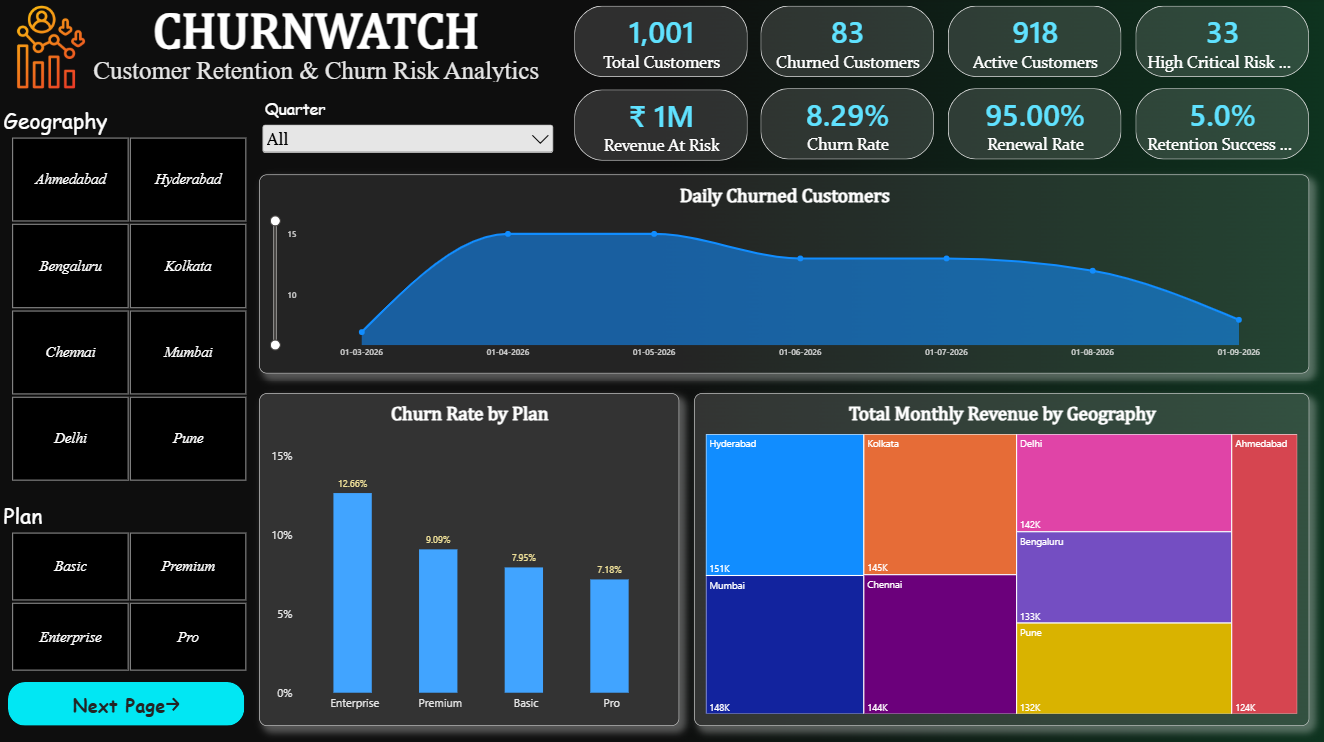

What the dashboard file says about the page in this screenshot:
{"tool":"powerbi","page":{"name":"Churn Rate","canvas":[1920,1080],"ordinal":0},"visuals":[{"type":"shape","title":"CHURNWATCH","box":[0,10.9,921.1,112.2],"z":0},{"type":"image","box":[14.5,10.9,124.9,123.1],"z":1000},{"type":"treemap","fields":{"Group":["Subscription_Data.Geography"],"Values":["Sum(Subscription_Data.Monthly_Revenue_INR)"]},"box":[1008,573.7,890.4,481.4],"z":2000},{"type":"clusteredColumnChart","fields":{"Category":["Subscription_Data.Plan"],"Y":["Subscription_Data.Churn Rate"]},"box":[378.2,573.7,608,481.4],"z":3000},{"type":"lineChart","title":"Daily Churned Customers","fields":{"Category":["Subscription_Data.Churn_Month"],"Y":["Subscription_Data.Daily Churned Customers"]},"box":[378.2,257,1520.1,287.7],"z":4000},{"type":"slicer","fields":{"Values":["Subscription_Data.Geography"]},"box":[0,157.4,378.2,544.7],"z":5000},{"type":"slicer","fields":{"Values":["Subscription_Data.Plan"]},"box":[0,729.3,378.2,247.9],"z":6000},{"type":"cardVisual","fields":{"Data":["Subscription_Data.Total Customers Display"]},"box":[834.3,12.7,251.5,103.2],"z":7000},{"type":"cardVisual","fields":{"Data":["Subscription_Data.Churned Customers"]},"box":[1103.9,12.7,251.5,103.2],"z":8000},{"type":"cardVisual","fields":{"Data":["Subscription_Data.Active Customers"]},"box":[1375.3,12.7,251.5,103.2],"z":9000},{"type":"cardVisual","fields":{"Data":["Intervention_Data.High Critical Risk Customers"]},"box":[1646.8,12.7,251.5,103.2],"z":10000},{"type":"cardVisual","fields":{"Data":["Intervention_Data.Revenue At Risk"]},"box":[834.3,133.9,251.5,103.2],"z":11000},{"type":"cardVisual","fields":{"Data":["Subscription_Data.Churn Rate"]},"box":[1103.8,132.7,251.5,103.2],"z":12000},{"type":"cardVisual","fields":{"Data":["Subscription_Data.Renewal Rate"]},"box":[1375.2,132.7,251.5,103.2],"z":13000},{"type":"cardVisual","fields":{"Data":["Intervention_Data.Retention Success Rate"]},"box":[1646.7,132.7,251.5,103.2],"z":14000},{"type":"actionButton","box":[14.5,991.7,342,63.3],"z":16000},{"type":"slicer","fields":{"Values":["Subscription_Data.Churn_Month.Variation.Date Hierarchy.Quarter"]},"box":[378.2,146.6,430.7,90.5],"z":16001}]}

Visuals, with their boxes in screenshot pixels (x1, y1, x2, y2), scaled from the page's 1920x1080 canvas onto the 1324x742 screenshot:
"CHURNWATCH" shape: pyautogui.locateOnScreen(0, 7, 635, 85)
image: pyautogui.locateOnScreen(10, 7, 96, 92)
treemap - Subscription_Data.Geography x Sum(Subscription_Data.Monthly_Revenue_INR): pyautogui.locateOnScreen(695, 394, 1309, 725)
clusteredColumnChart - Subscription_Data.Plan x Subscription_Data.Churn Rate: pyautogui.locateOnScreen(261, 394, 680, 725)
"Daily Churned Customers" lineChart: pyautogui.locateOnScreen(261, 177, 1309, 374)
slicer - Subscription_Data.Geography: pyautogui.locateOnScreen(0, 108, 261, 482)
slicer - Subscription_Data.Plan: pyautogui.locateOnScreen(0, 501, 261, 671)
cardVisual - Subscription_Data.Total Customers Display: pyautogui.locateOnScreen(575, 9, 749, 80)
cardVisual - Subscription_Data.Churned Customers: pyautogui.locateOnScreen(761, 9, 935, 80)
cardVisual - Subscription_Data.Active Customers: pyautogui.locateOnScreen(948, 9, 1122, 80)
cardVisual - Intervention_Data.High Critical Risk Customers: pyautogui.locateOnScreen(1136, 9, 1309, 80)
cardVisual - Intervention_Data.Revenue At Risk: pyautogui.locateOnScreen(575, 92, 749, 163)
cardVisual - Subscription_Data.Churn Rate: pyautogui.locateOnScreen(761, 91, 935, 162)
cardVisual - Subscription_Data.Renewal Rate: pyautogui.locateOnScreen(948, 91, 1122, 162)
cardVisual - Intervention_Data.Retention Success Rate: pyautogui.locateOnScreen(1136, 91, 1309, 162)
actionButton: pyautogui.locateOnScreen(10, 681, 246, 725)
slicer - Subscription_Data.Churn_Month.Variation.Date Hierarchy.Quarter: pyautogui.locateOnScreen(261, 101, 558, 163)
